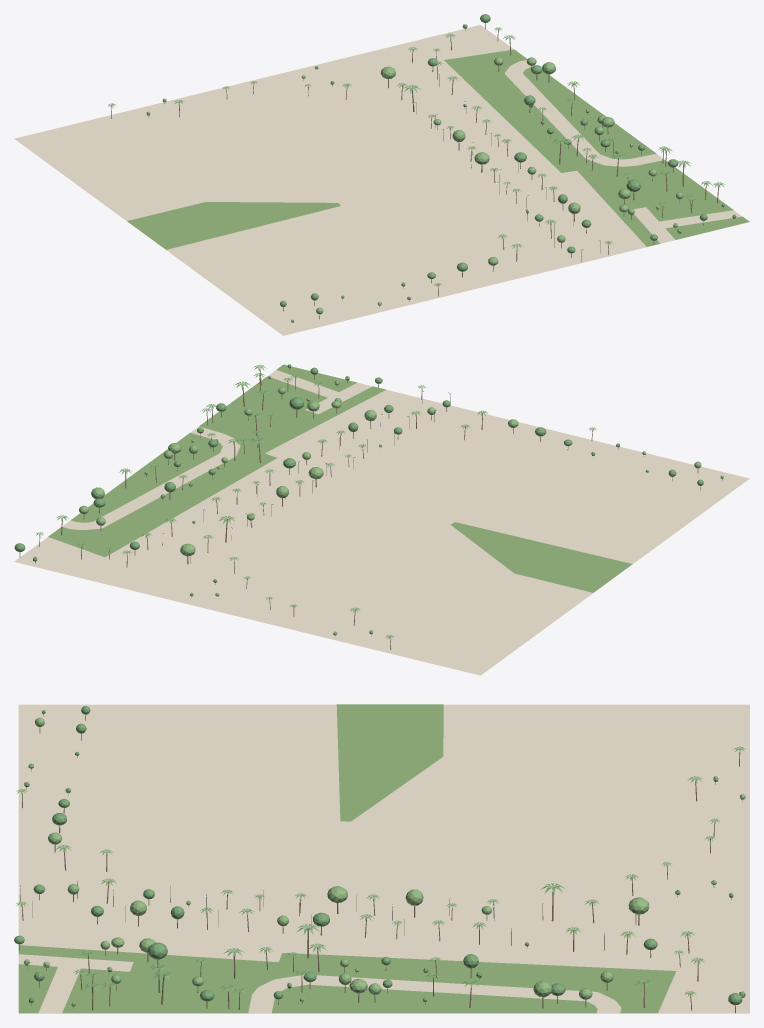
The model's file is nature_0_-4.glb.
3 renders of one model, top to bottom at view 1: azimuth 30°, elevation 25°; view 2: azimuth 150°, elevation 25°; view 3: azimuth 270°, elevation 25°, orthographic. The views are drawn at different scales.
Visible parts, largest first — view 1: ground, grass, foliage_b, palm_leaf, foliage_a, trunk; view 2: ground, grass, foliage_b, palm_leaf, foliage_a, trunk; view 3: ground, grass, foliage_b, foliage_a, palm_leaf, trunk.
Boxes of the visible parts, <box> form: ground: <box>14,25,749,335</box>; grass: <box>127,49,749,249</box>; foliage_b: <box>146,57,683,314</box>; palm_leaf: <box>108,27,725,286</box>; foliage_a: <box>280,14,736,322</box>; trunk: <box>111,23,723,319</box>; ground: <box>14,370,749,675</box>; grass: <box>48,364,632,592</box>; foliage_b: <box>79,376,701,635</box>; palm_leaf: <box>36,364,596,639</box>; foliage_a: <box>14,364,723,596</box>; trunk: <box>19,368,722,649</box>; ground: <box>18,704,749,1013</box>; grass: <box>18,704,676,1013</box>; foliage_b: <box>23,717,745,1002</box>; foliage_a: <box>14,706,745,1006</box>; palm_leaf: <box>16,746,746,996</box>; trunk: <box>19,714,742,1013</box>.
Bounding box in the file's own units: 252 × 12.88 × 252.
